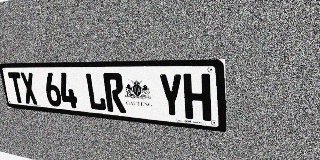4: (57, 73, 78, 109)
6: (43, 73, 63, 107)
H: (183, 74, 211, 121)
L: (85, 73, 107, 111)
R: (103, 73, 126, 113)
T: (8, 72, 26, 104)
X: (20, 72, 38, 105)
Y: (158, 73, 184, 119)
